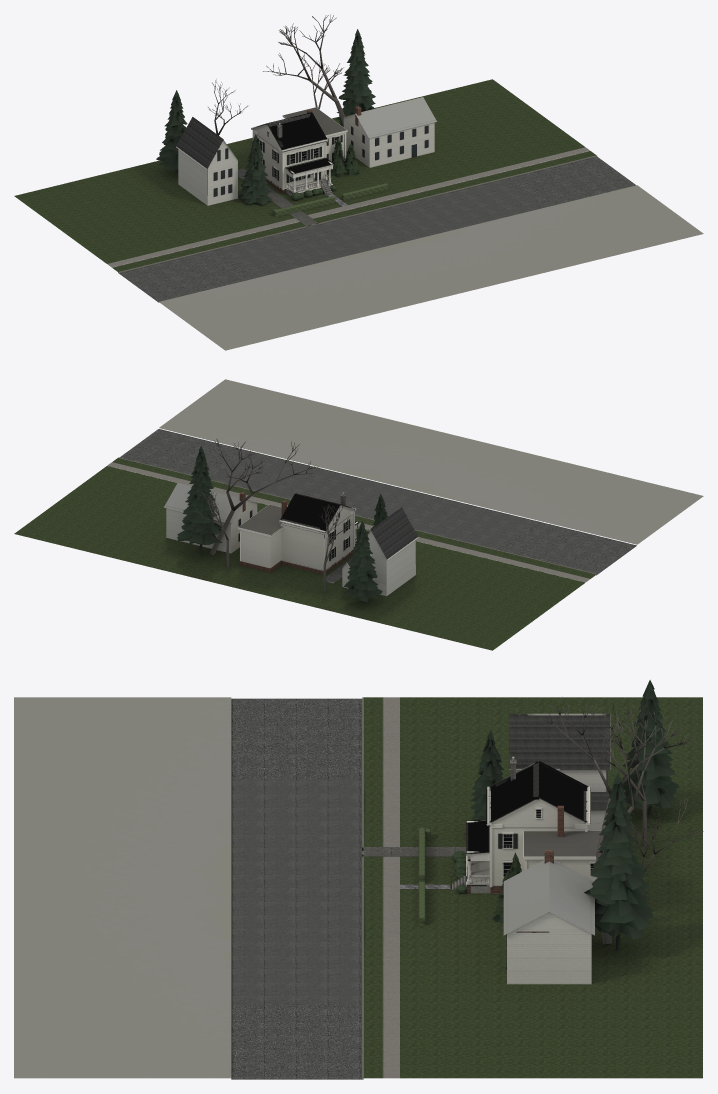
Rendered from einstein-mercer-street-front.glb.
3 renders of one model, top to bottom at view 1: azimuth 30°, elevation 25°; view 2: azimuth 150°, elevation 25°; view 3: azimuth 270°, elevation 25°, orthographic. The views are drawn at different scales.
Visible parts, largest first — view 1: far_side, lawn, street, neighbour_right, street_left, street_right, neighbour_left, tree_lawn, sidewalk, spruce_back, roof, artifact_house (+8 smaller); view 2: far_side, lawn, street, street_left, street_right, neighbour_left, artifact_house, neighbour_right, tree_lawn, spruce_back, spruce_far_left, sidewalk (+6 smaller); view 3: far_side, lawn, street, street_left, neighbour_right, street_right, tree_lawn, spruce_back, neighbour_left, sidewalk, spruce_far_left, roof (+10 smaller).
Boxes of the visible parts, box(x1,y1,x2,y2) form: far_side: box(159, 185, 703, 350); lawn: box(14, 79, 584, 263); street: box(220, 180, 540, 277); neighbour_right: box(343, 97, 436, 167); street_left: box(119, 248, 258, 302); street_right: box(502, 156, 635, 208); neighbour_left: box(176, 117, 237, 205); tree_lawn: box(112, 150, 596, 271); sidewalk: box(107, 147, 589, 267); spruce_back: box(335, 29, 375, 126); roof: box(253, 112, 328, 151); artifact_house: box(254, 125, 324, 189); far_side: box(159, 379, 703, 544); lawn: box(14, 466, 584, 650); street: box(215, 452, 535, 549); street_left: box(497, 521, 636, 574); street_right: box(119, 429, 253, 480); neighbour_left: box(367, 507, 418, 596); artifact_house: box(282, 506, 353, 570); neighbour_right: box(164, 483, 257, 553); tree_lawn: box(112, 458, 596, 578); spruce_back: box(177, 445, 222, 554); spruce_far_left: box(344, 521, 382, 603); sidewalk: box(107, 462, 589, 582); far_side: box(14, 697, 231, 1078); lawn: box(400, 697, 702, 1078); street: box(231, 779, 362, 1003); street_left: box(231, 698, 362, 779); neighbour_right: box(503, 860, 594, 984); street_right: box(231, 1003, 362, 1079); tree_lawn: box(363, 697, 384, 1078); spruce_back: box(584, 773, 654, 950); neighbour_left: box(509, 713, 610, 791); sidewalk: box(385, 697, 399, 1078); spruce_far_left: box(622, 680, 679, 814); roof: box(486, 761, 590, 824).
Size of what is drawn, in the model's own units: 85 by 21.3 by 65.09.
7 materials, 6 textured.
